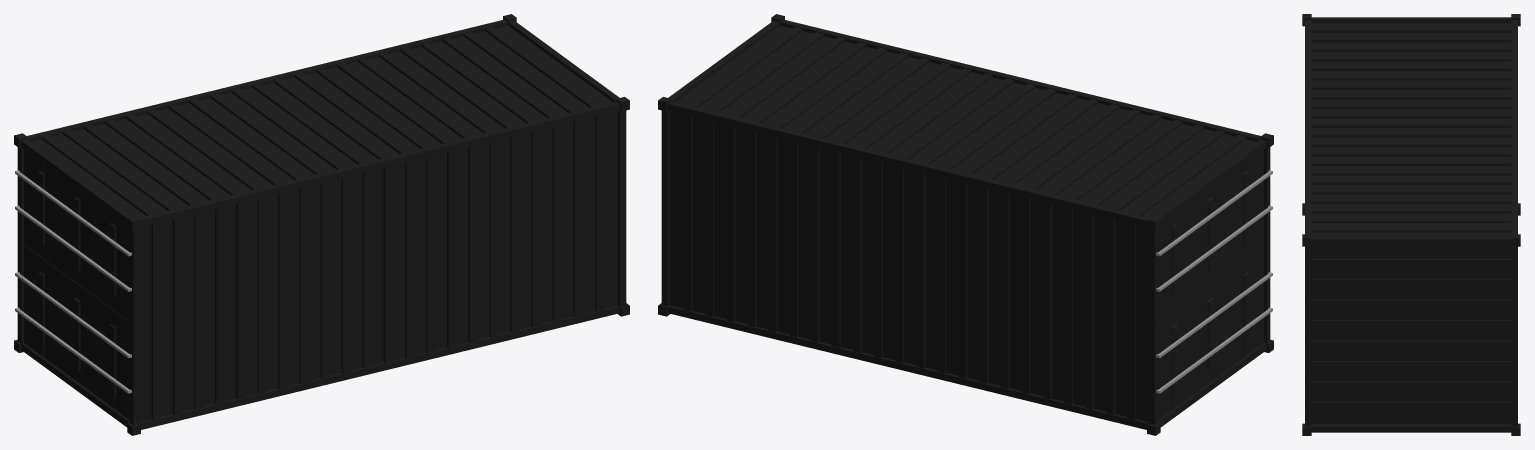
Rendered from Container_Black.fbx.
The picture shows the model from 3 angles, left to right: view 1: azimuth 30°, elevation 25°; view 2: azimuth 150°, elevation 25°; view 3: azimuth 270°, elevation 25°; orthographic projection. The views are drawn at different scales.
Parts seen in each view (by area): view 1: Container_Black; view 2: Container_Black; view 3: Container_Black.
Boxes of the visible parts, x1,y1,x2,y2 form: Container_Black: [14, 14, 629, 435]; Container_Black: [658, 14, 1273, 435]; Container_Black: [1302, 14, 1520, 435].
Bounding box in the file's own units: 6.21 × 2.54 × 2.54.
